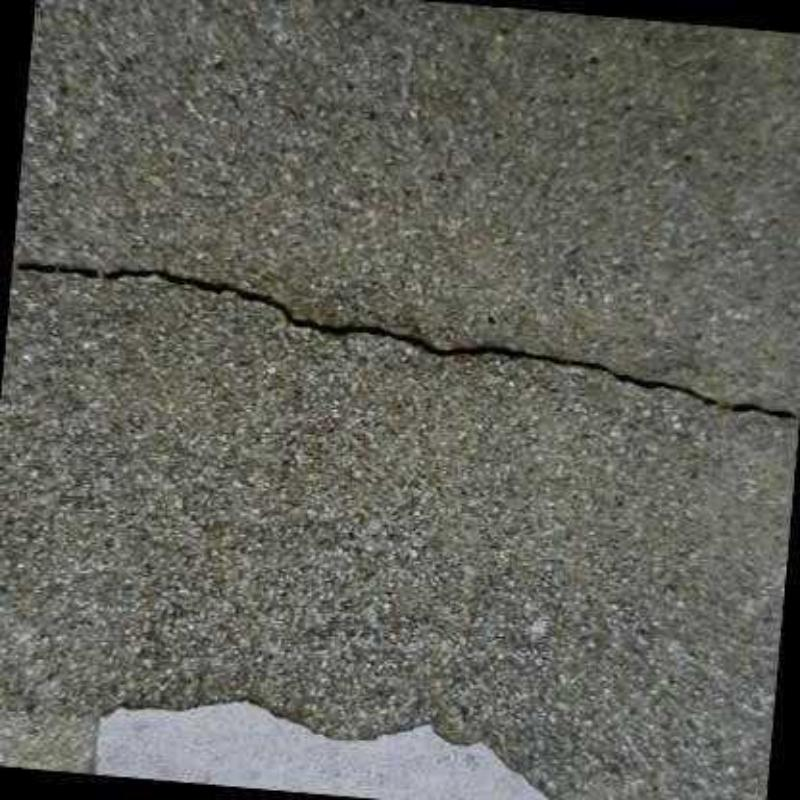crack: (14, 262, 799, 421)
